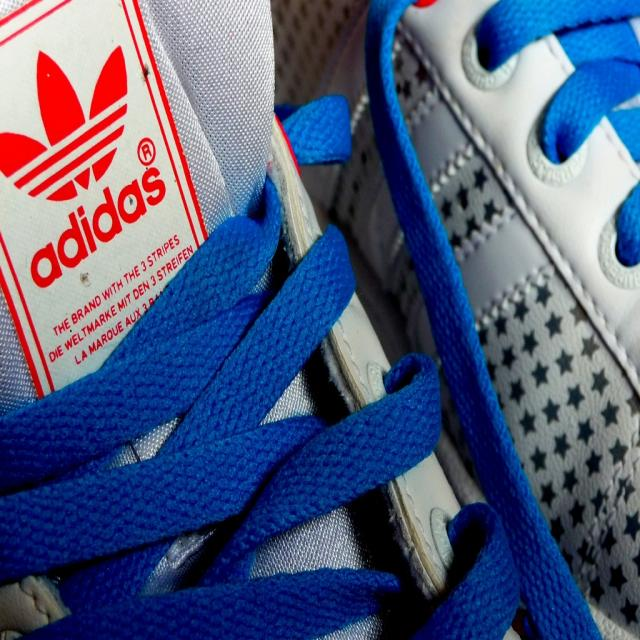adidas: (2, 37, 173, 294)
